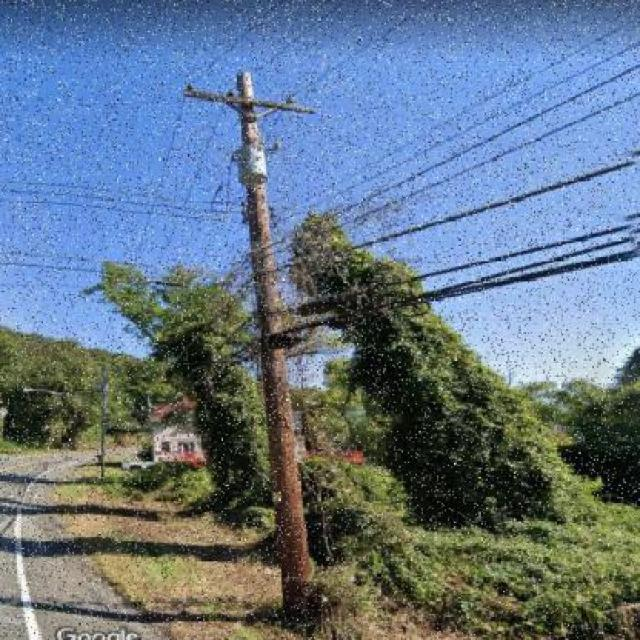pole: (140, 39, 414, 623)
